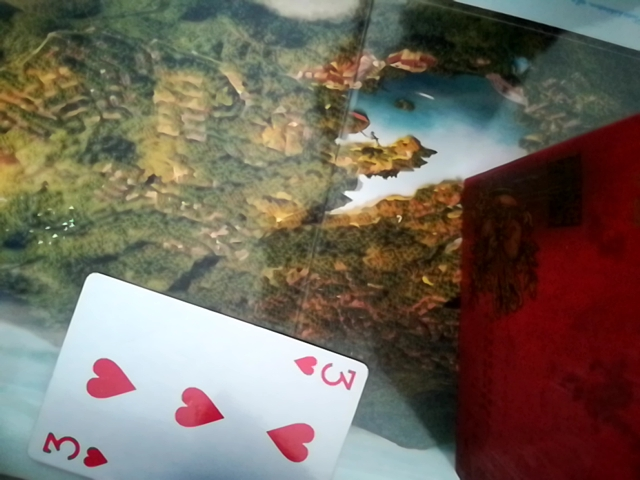hx 3: (24, 271, 378, 480)
